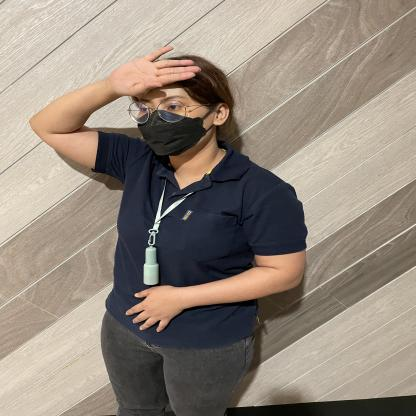Sick: (81, 40, 210, 100)
